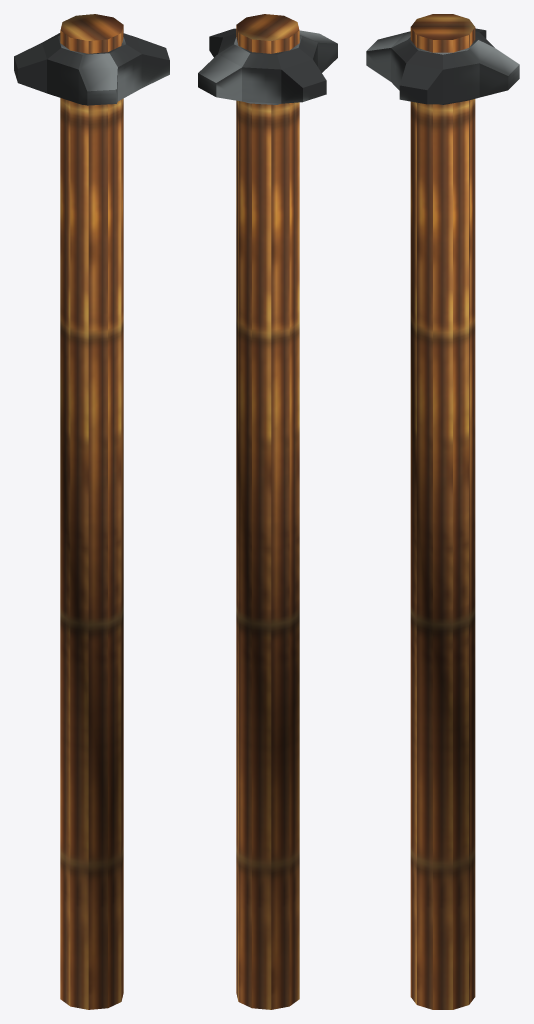
The model's file is inca_mace_1.dae.
3 views of the same model, side by side, from view 1: azimuth 30°, elevation 25°; view 2: azimuth 150°, elevation 25°; view 3: azimuth 270°, elevation 25° (orthographic).
Parts seen in each view (by area): view 1: club_estrela; view 2: club_estrela; view 3: club_estrela.
Part boxes in pixels (x1,y1,x2,y2): club_estrela: [14, 14, 169, 1009]; club_estrela: [198, 14, 337, 1009]; club_estrela: [366, 14, 519, 1009].
Size of the model in its own units: 0.2662 by 0.2662 by 1.86.
